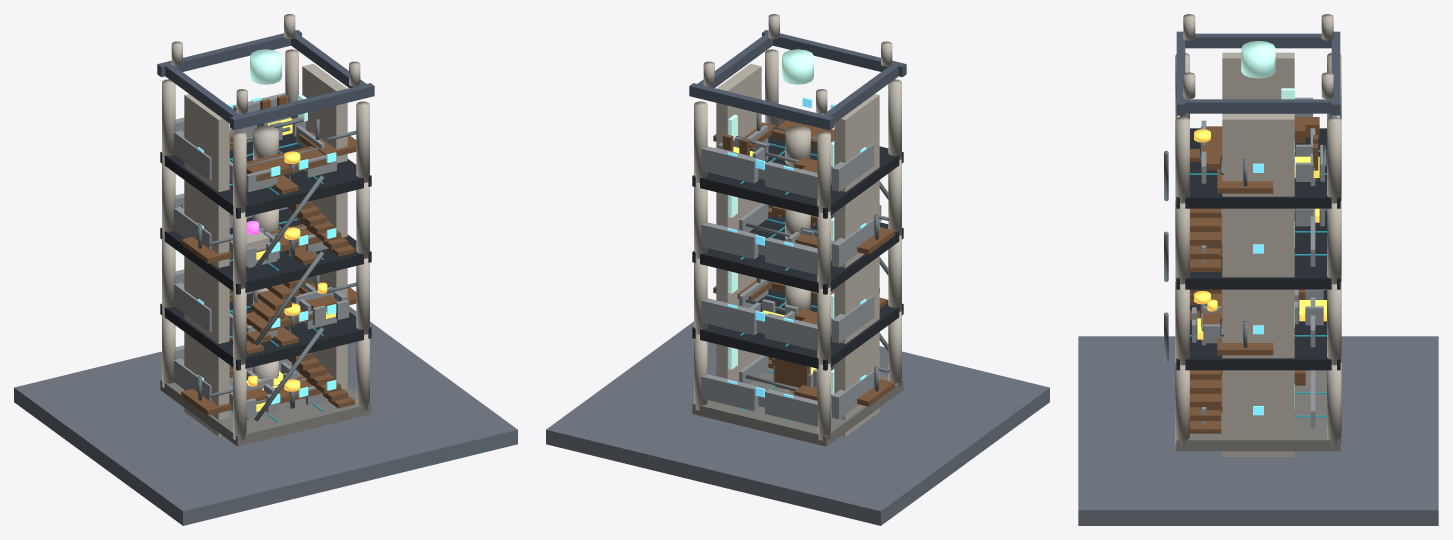
3 renders of one model, left to right at view 1: azimuth 30°, elevation 25°; view 2: azimuth 150°, elevation 25°; view 3: azimuth 270°, elevation 25°, orthographic. The views are drawn at different scales.
Visible parts, largest first — view 1: ProfileGround.004, TowerButtress_visual_watch_tower_-1, TowerButtress_visual_watch_tower_1, BuildingFloor_4, BuildingFloor_1.001, BuildingFloor_2.001, BuildingFloor_3.001, TowerEaveSouth_visual_watch_tower, TowerEaveNorth_visual_watch_tower, TowerEaveWest_visual_watch_tower, TowerLanding_visual_watch_tower_3, Column_4_-1_-1 (+21 smaller); view 2: ProfileGround.004, TowerButtress_visual_watch_tower_-1, TowerButtress_visual_watch_tower_1, BuildingFloor_4, BuildingFloor_2.001, BuildingFloor_3.001, BuildingFloor_1.001, TowerEaveNorth_visual_watch_tower, TowerEaveSouth_visual_watch_tower, BackWall_4_1, BackWall_1_1.001, BackWall_3_1.001 (+27 smaller); view 3: ProfileGround.004, TowerButtress_visual_watch_tower_1, BuildingFloor_1.001, BuildingFloor_3.001, BuildingFloor_4, BuildingFloor_2.001, TowerButtress_visual_watch_tower_-1, TowerEaveEast_visual_watch_tower, TowerEaveWest_visual_watch_tower, Column_4_1_-1, Column_4_1_1, TowerBell_visual_watch_tower (+15 smaller).
Part boxes in pixels (x1,y1,x2,y2): ProfileGround.004: (14, 306, 517, 525); TowerButtress_visual_watch_tower_-1: (184, 94, 229, 436); TowerButtress_visual_watch_tower_1: (302, 63, 347, 389); BuildingFloor_4: (160, 133, 371, 218); BuildingFloor_1.001: (160, 360, 371, 446); BuildingFloor_2.001: (160, 293, 371, 370); BuildingFloor_3.001: (160, 208, 371, 294); TowerEaveSouth_visual_watch_tower: (230, 83, 374, 130); TowerEaveNorth_visual_watch_tower: (157, 30, 301, 77); TowerEaveWest_visual_watch_tower: (165, 64, 240, 123); TowerLanding_visual_watch_tower_3: (246, 146, 329, 181); Column_4_-1_-1: (233, 131, 246, 212); ProfileGround.004: (546, 321, 1049, 525); TowerButtress_visual_watch_tower_-1: (834, 94, 879, 436); TowerButtress_visual_watch_tower_1: (716, 63, 761, 381); BuildingFloor_4: (692, 124, 903, 218); BuildingFloor_2.001: (692, 288, 903, 370); BuildingFloor_3.001: (692, 215, 903, 294); BuildingFloor_1.001: (692, 367, 903, 446); TowerEaveNorth_visual_watch_tower: (689, 83, 833, 130); TowerEaveSouth_visual_watch_tower: (762, 30, 906, 77); BackWall_4_1: (701, 146, 758, 183); BackWall_1_1.001: (701, 374, 758, 411); BackWall_3_1.001: (701, 222, 758, 259); ProfileGround.004: (1078, 336, 1438, 525); TowerButtress_visual_watch_tower_1: (1222, 114, 1294, 456); BuildingFloor_1.001: (1176, 370, 1340, 451); BuildingFloor_3.001: (1176, 209, 1340, 289); BuildingFloor_4: (1176, 128, 1340, 208); BuildingFloor_2.001: (1176, 290, 1340, 370); TowerButtress_visual_watch_tower_-1: (1222, 52, 1294, 113); TowerEaveEast_visual_watch_tower: (1184, 99, 1332, 113); TowerEaveWest_visual_watch_tower: (1185, 33, 1331, 48); Column_4_1_-1: (1175, 116, 1189, 203); Column_4_1_1: (1327, 116, 1341, 203); TowerBell_visual_watch_tower: (1241, 41, 1275, 78).
Size of the model in its own units: 4.8 by 5.06 by 4.2.
